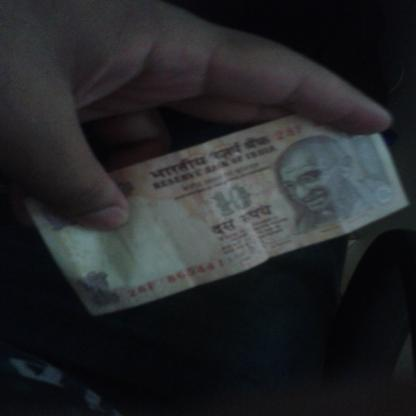Old10Front: (24, 111, 410, 316)
